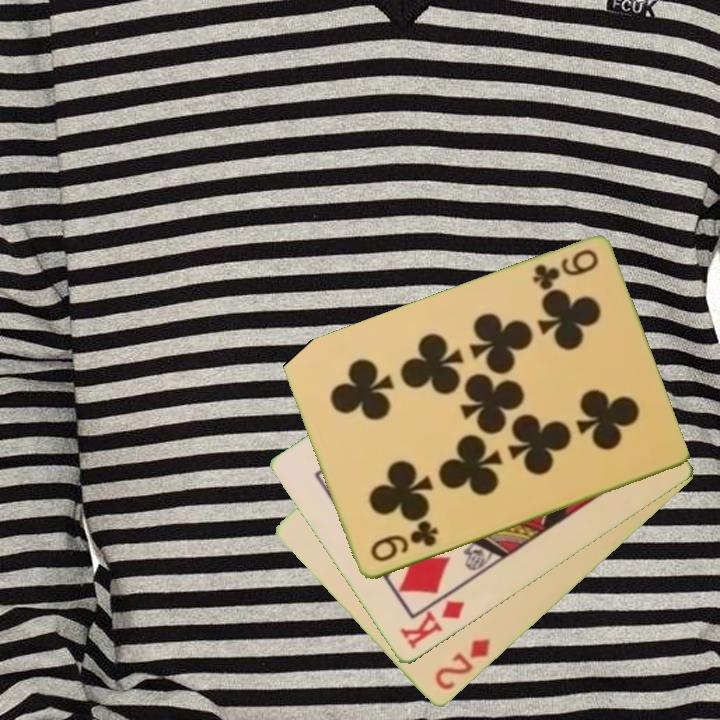2d: (431, 635, 494, 694)
9c: (366, 519, 441, 566), (528, 246, 601, 294)
Kd: (396, 597, 468, 653)
